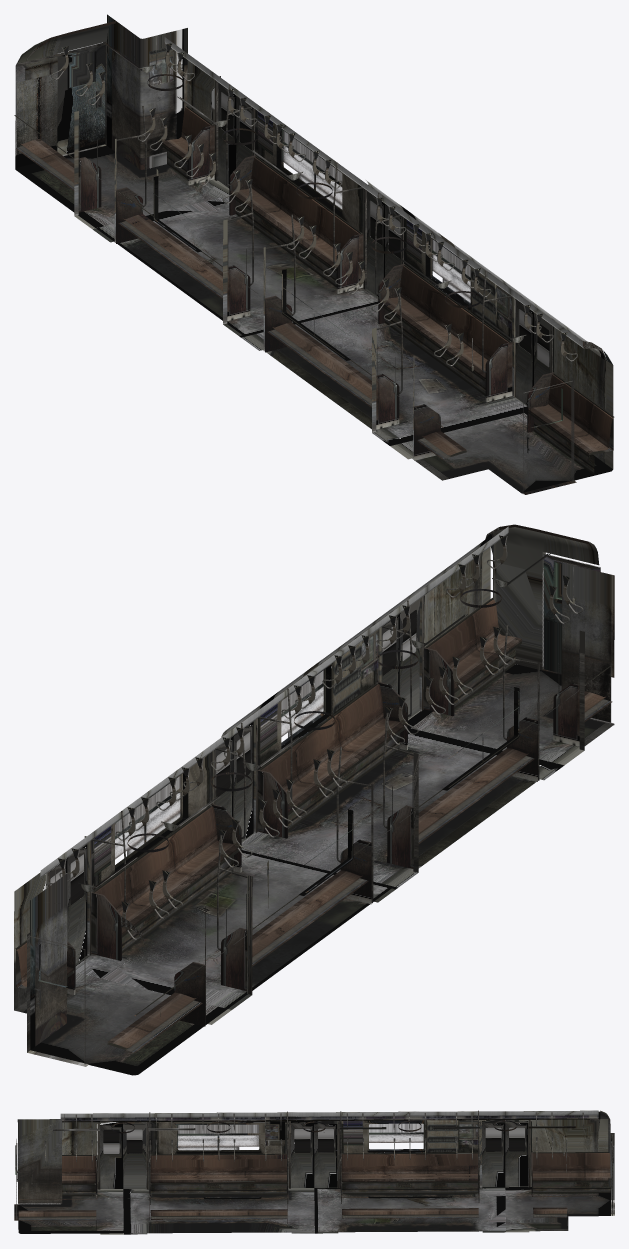
File: qtar.glb
The picture shows the model from 3 angles, top to bottom: view 1: azimuth 30°, elevation 25°; view 2: azimuth 150°, elevation 25°; view 3: azimuth 270°, elevation 25°; orthographic projection. The views are drawn at different scales.
Visible parts, largest first — view 1: FrontSide_1, FrontSide_3, FrontSide_2, FrontSide_4, FrontSide_5, FrontSide_0; view 2: FrontSide_1, FrontSide_3, FrontSide_4, FrontSide_2, FrontSide_0, FrontSide_5; view 3: FrontSide_1, FrontSide_4, FrontSide_2, FrontSide_0, FrontSide_5, FrontSide_3.
Part boxes in pixels (<box>): FrontSide_1: <box>14,21,614,474</box>; FrontSide_3: <box>17,14,577,459</box>; FrontSide_2: <box>15,24,613,493</box>; FrontSide_4: <box>79,83,550,445</box>; FrontSide_5: <box>92,180,532,341</box>; FrontSide_0: <box>221,92,612,494</box>; FrontSide_1: <box>15,524,613,1052</box>; FrontSide_3: <box>27,535,584,1066</box>; FrontSide_4: <box>49,599,579,963</box>; FrontSide_2: <box>14,547,614,1075</box>; FrontSide_0: <box>50,527,614,905</box>; FrontSide_5: <box>75,613,400,1009</box>; FrontSide_1: <box>18,1111,610,1230</box>; FrontSide_4: <box>100,1121,528,1234</box>; FrontSide_2: <box>18,1110,614,1234</box>; FrontSide_0: <box>14,1118,525,1220</box>; FrontSide_5: <box>205,1120,505,1233</box>; FrontSide_3: <box>16,1110,614,1225</box>.
Size of what is drawn, in the model's own units: 3.52 by 2.97 by 18.49.
Materials: 6 (6 with a texture image).
